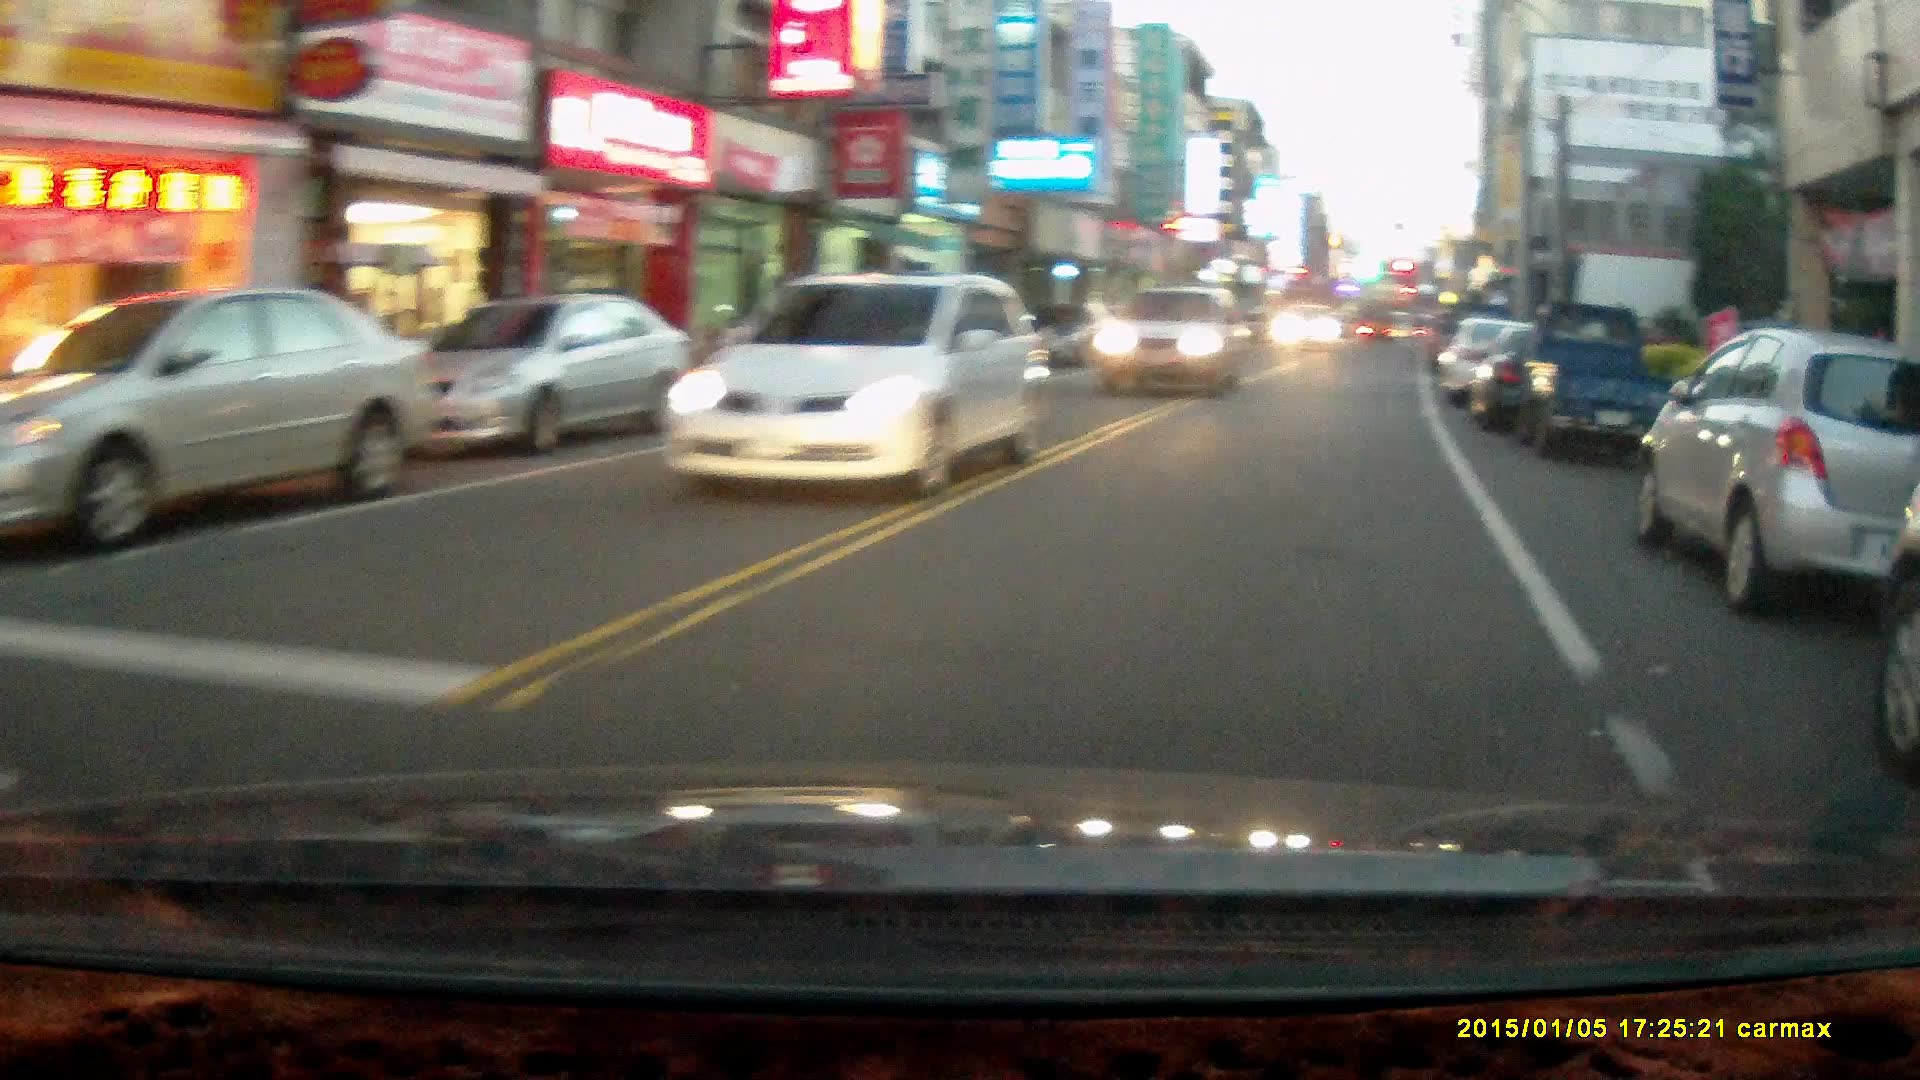vehicle: (5, 291, 451, 553), (653, 282, 1046, 510), (1623, 331, 1920, 626), (386, 295, 691, 462), (1501, 306, 1681, 468), (1091, 290, 1255, 404), (1433, 313, 1577, 413), (1269, 309, 1344, 359)
